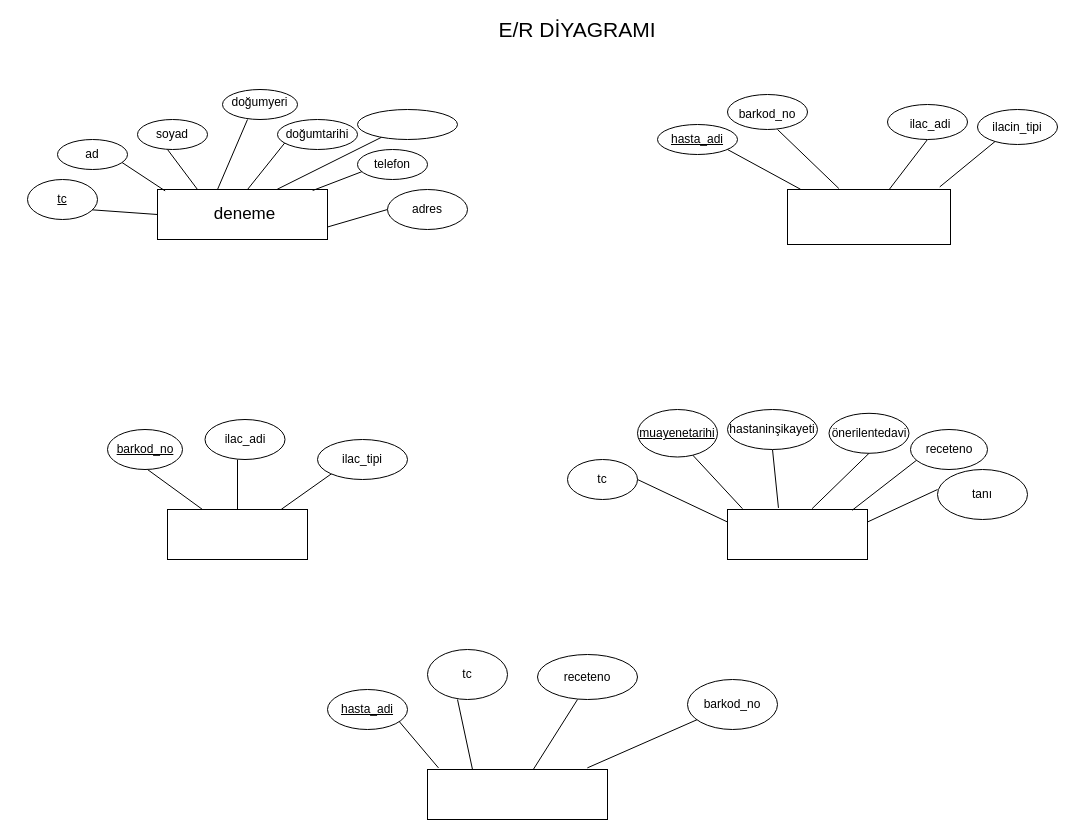
Image size: 1075x837. Some labels were removed from this diagram. Each missing label, with the centre of its shape:
"hastaarama" goes at (x=868, y=216).
"ilaçtablosu" goes at (x=237, y=534).
"medenidurumu" goes at (x=407, y=124).
"muayene" goes at (x=797, y=534).
"recetetable" goes at (x=517, y=794).
